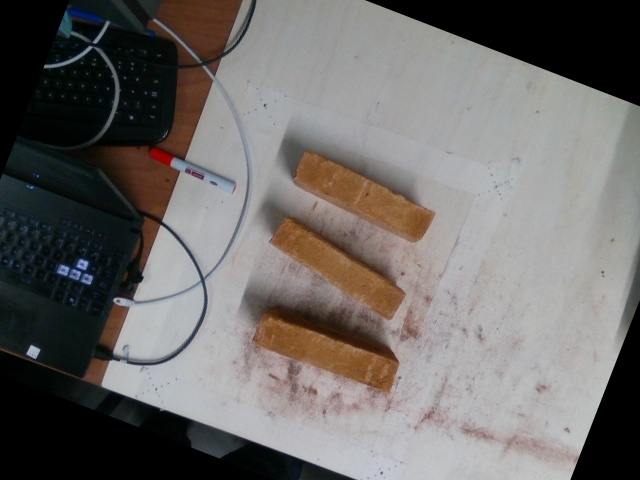brick-side: (270, 219, 402, 316), (295, 151, 433, 241), (255, 318, 397, 392)
